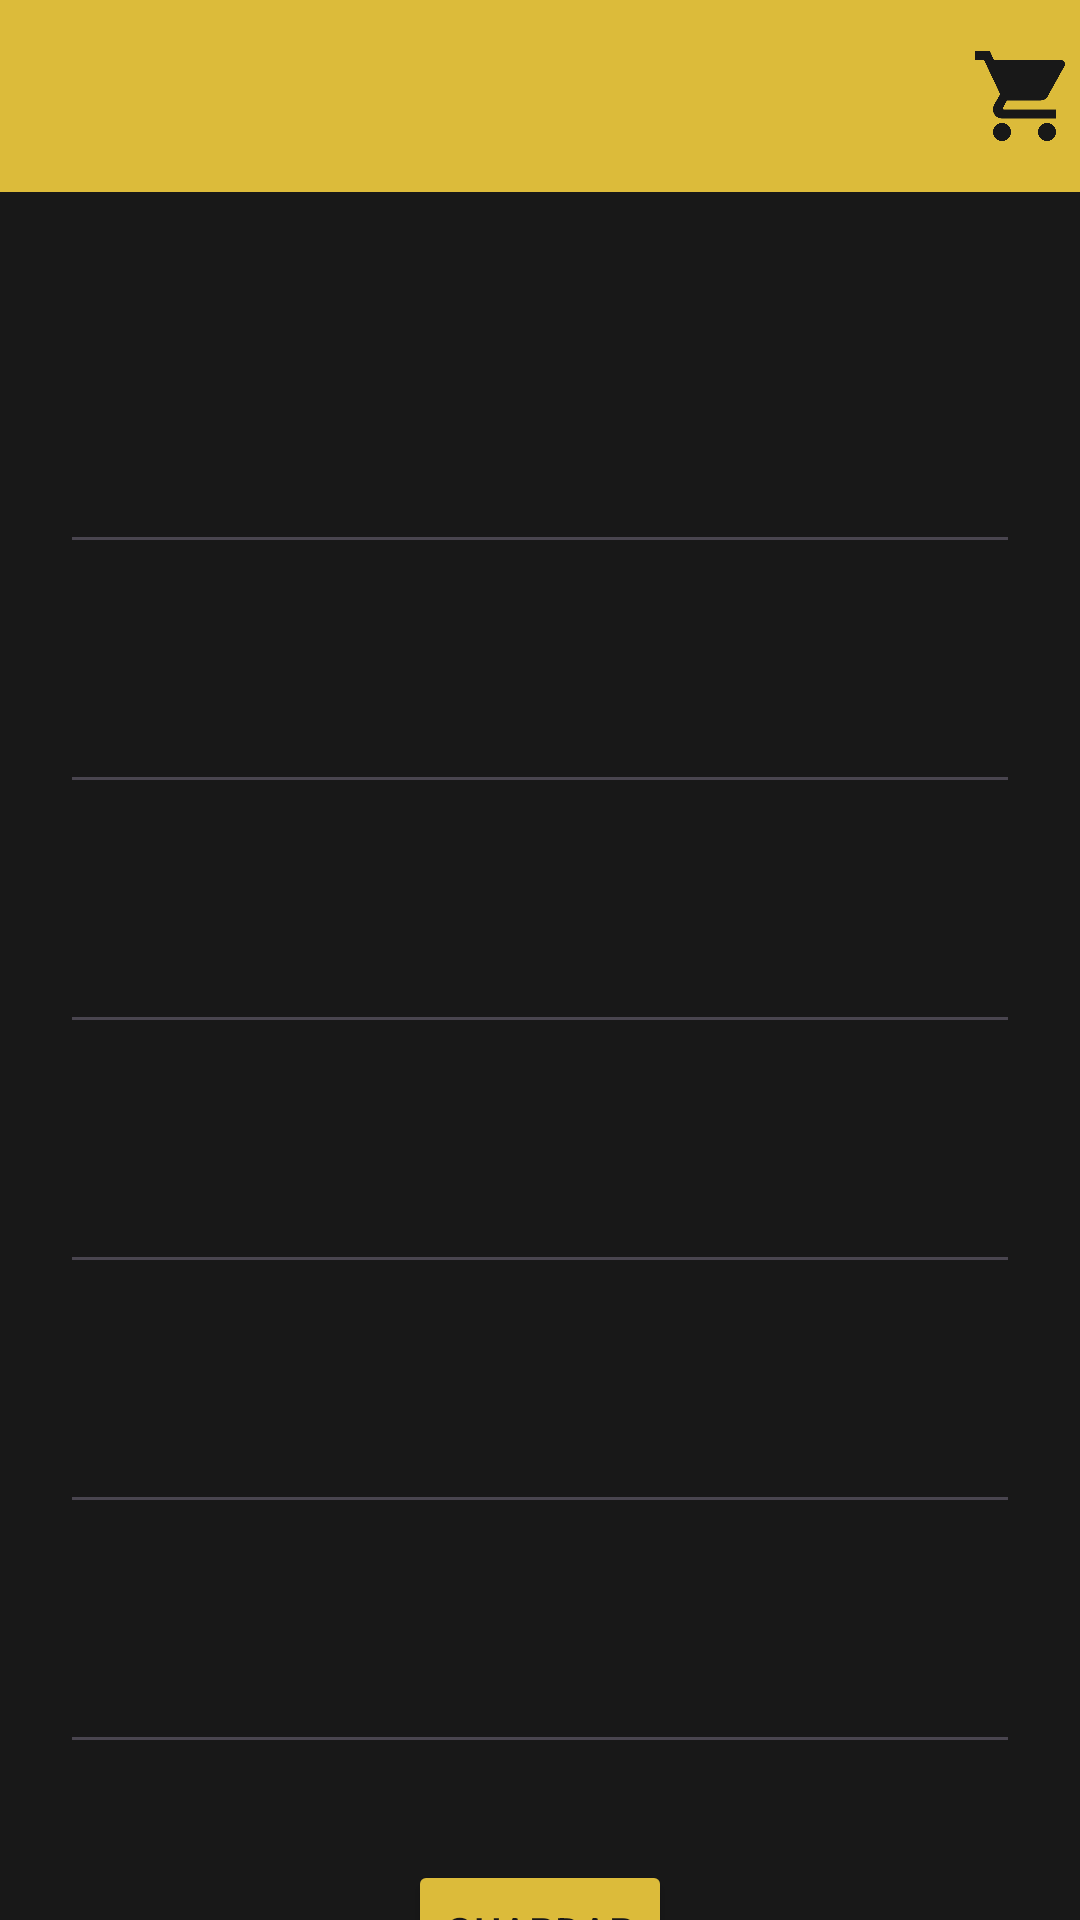

Where to tap for icons on this 1080px x 1920px app screen, as [x,y]:
carro: [1020,96]
